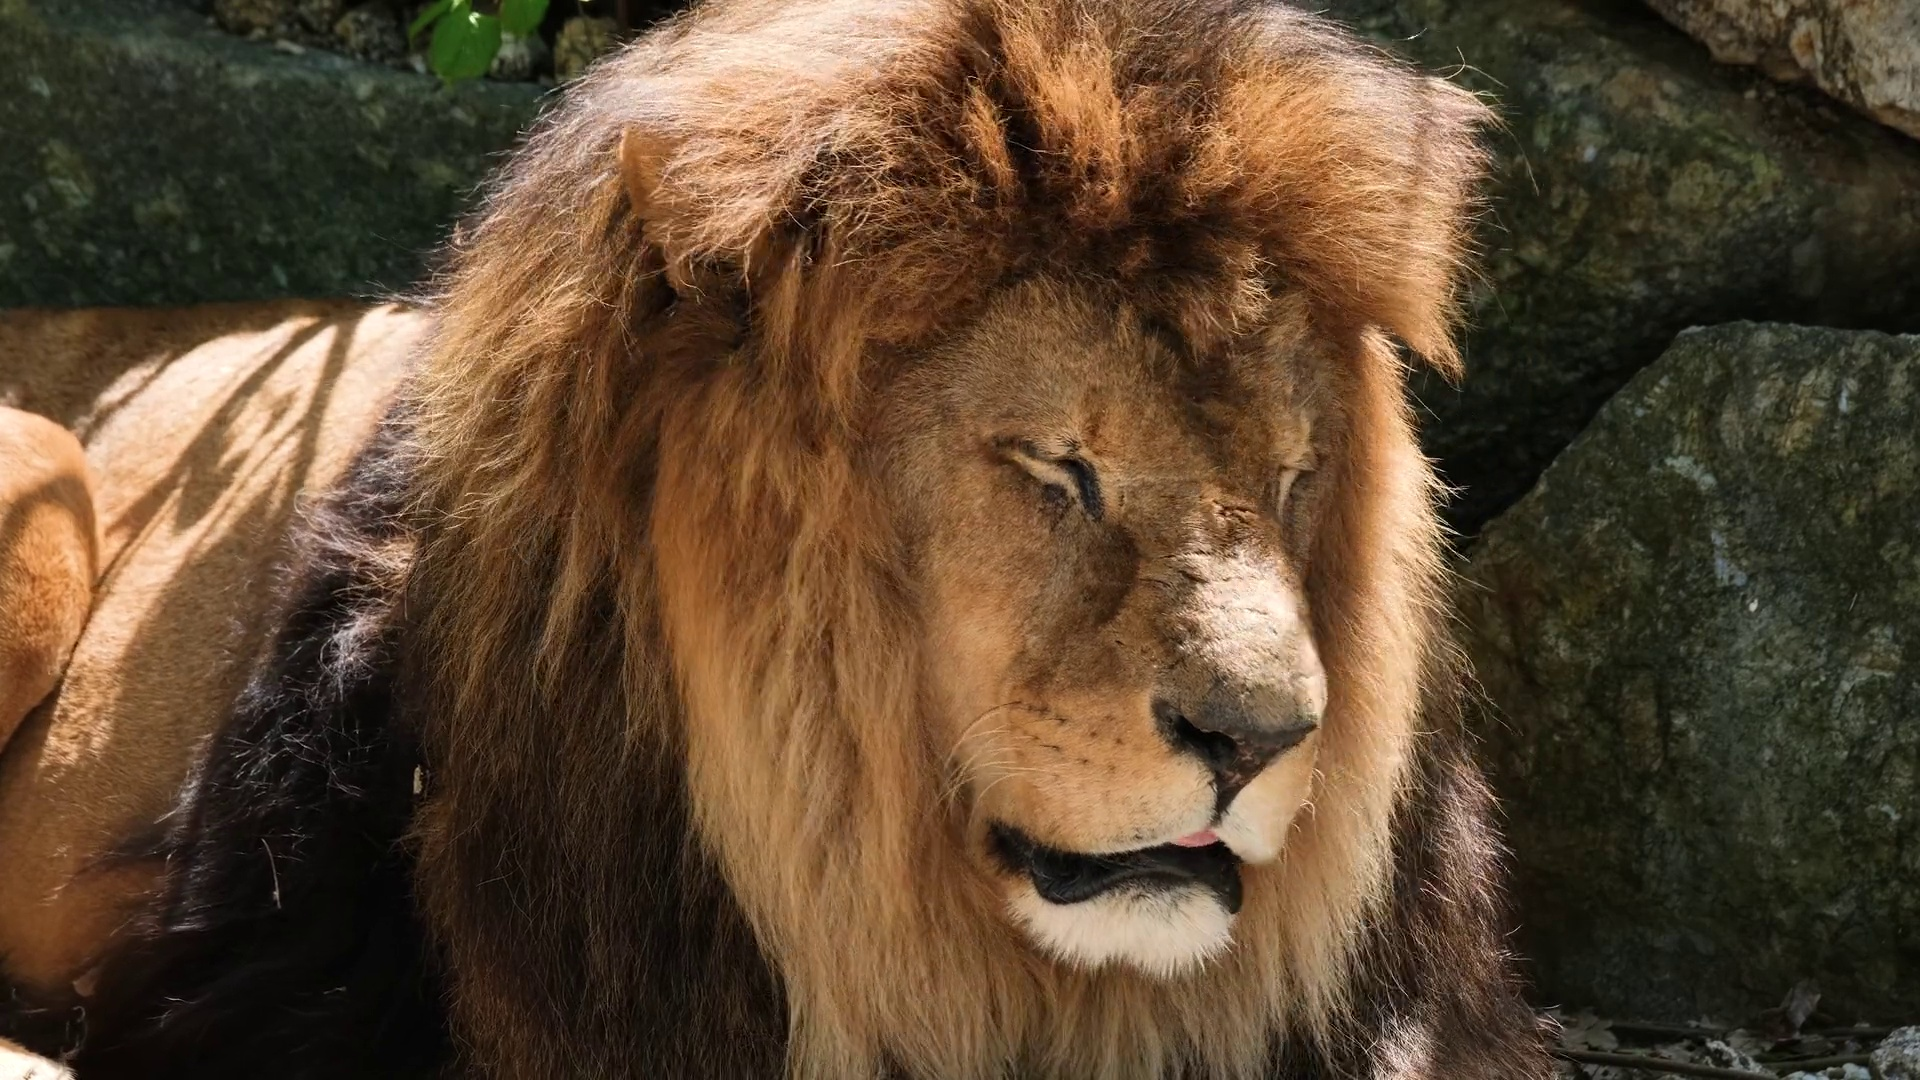Lion: (4, 4, 1555, 1080)
